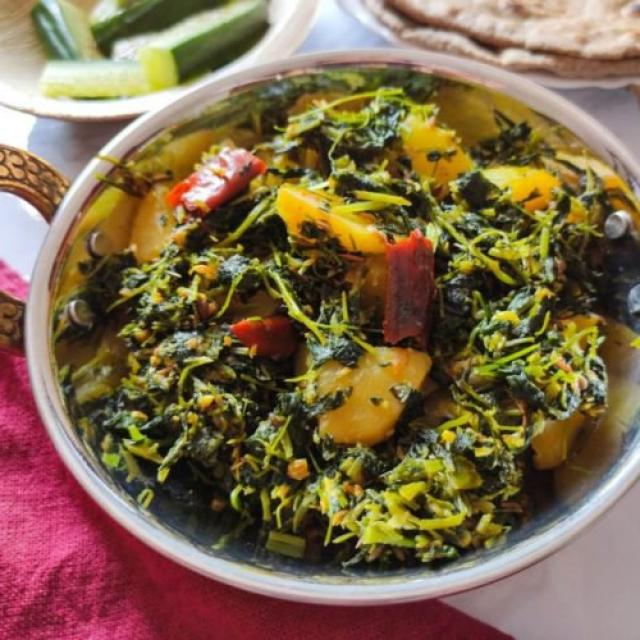Aloo Methi: (46, 62, 624, 584)
